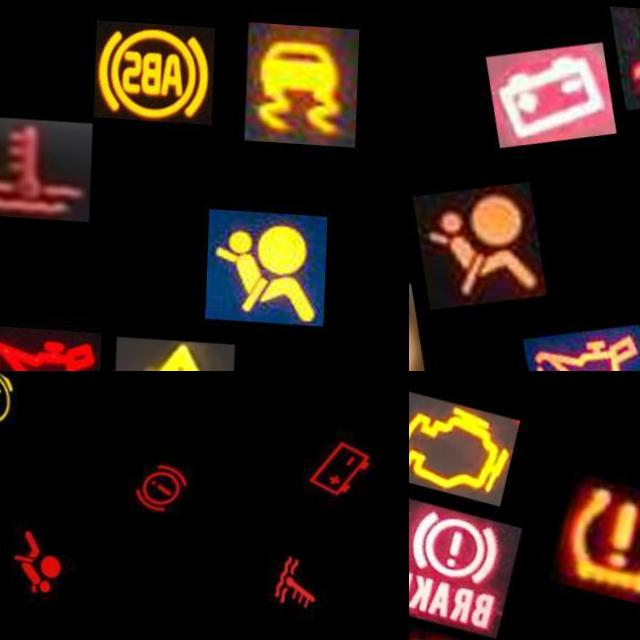Central Warning lamp: (117, 331, 238, 371)
Engine cooling system: (0, 113, 94, 218), (606, 1, 640, 110)
